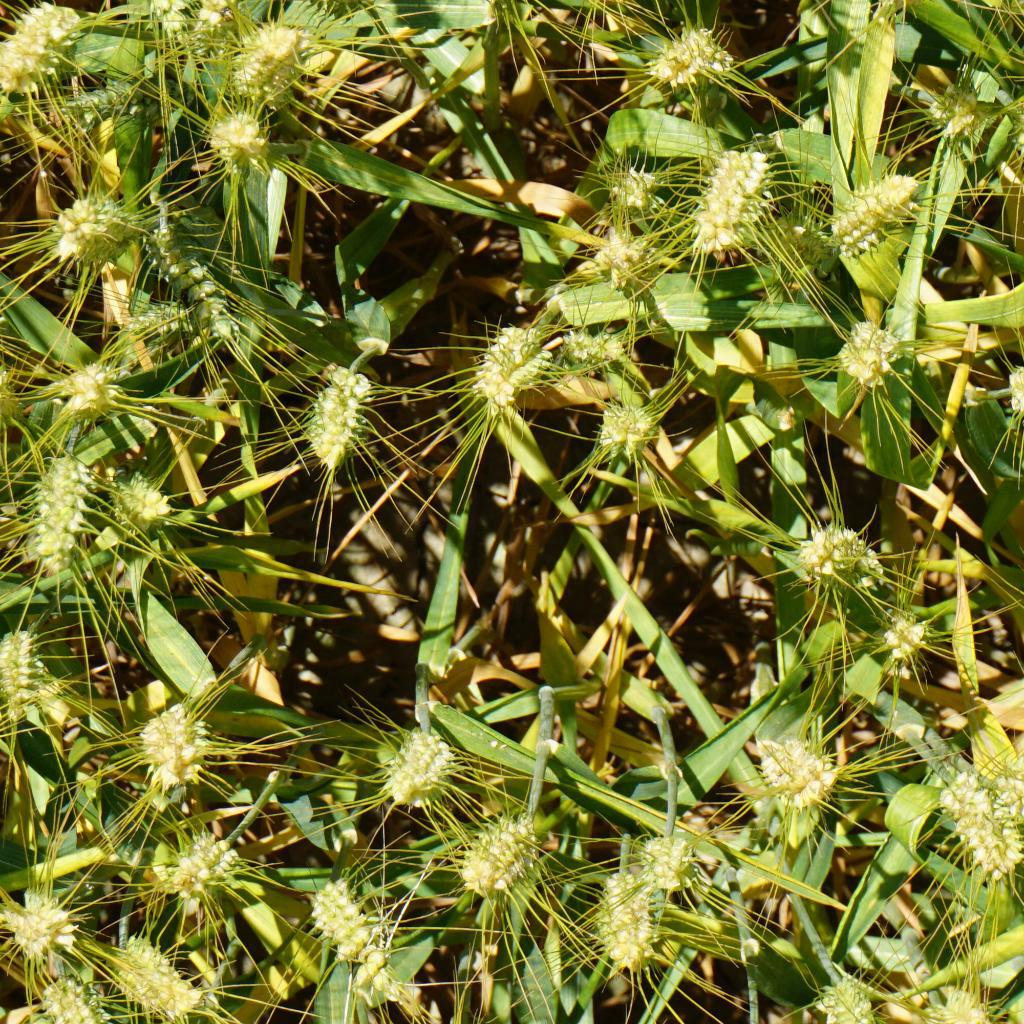0-0: (134, 163, 248, 336), (46, 68, 214, 136), (301, 872, 399, 982), (13, 451, 92, 579), (39, 165, 132, 269), (685, 141, 772, 249), (299, 359, 378, 476), (835, 167, 935, 256), (933, 763, 1014, 870), (751, 198, 844, 286), (462, 301, 549, 395), (116, 935, 208, 1019), (0, 0, 82, 92), (756, 730, 838, 821), (466, 803, 541, 902), (377, 714, 462, 797), (193, 97, 280, 178), (651, 17, 732, 102), (588, 854, 651, 958), (53, 348, 128, 435), (174, 0, 258, 74), (917, 76, 1002, 149), (155, 817, 238, 891), (139, 709, 210, 795), (234, 23, 299, 106), (807, 514, 878, 586), (555, 309, 635, 372), (0, 622, 51, 720), (123, 291, 209, 347), (11, 882, 78, 951), (102, 474, 175, 537), (801, 963, 876, 1024), (899, 974, 990, 1024), (602, 391, 667, 460), (867, 602, 931, 667), (646, 817, 697, 898), (37, 965, 103, 1024), (584, 214, 642, 279), (600, 155, 655, 222), (844, 318, 888, 388), (1004, 792, 1024, 909), (995, 352, 1024, 425), (0, 350, 23, 442), (996, 748, 1024, 817), (867, 0, 944, 23), (1004, 98, 1024, 179), (104, 0, 185, 17), (297, 0, 376, 17)
